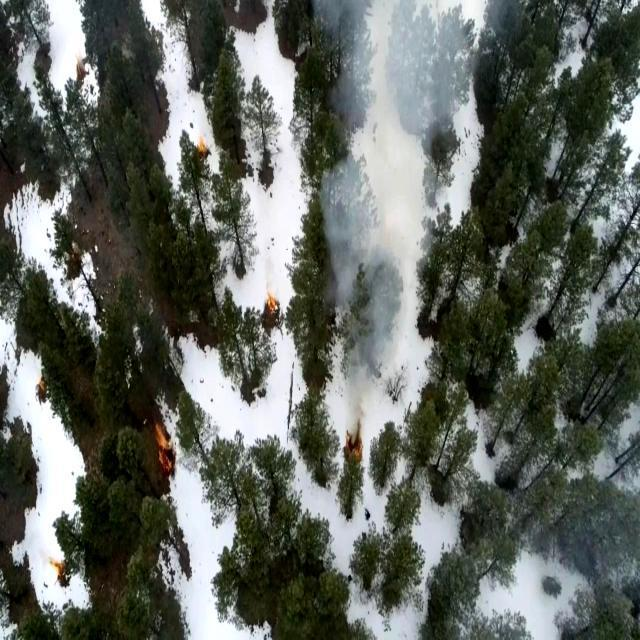Smoke: (315, 0, 442, 428)
